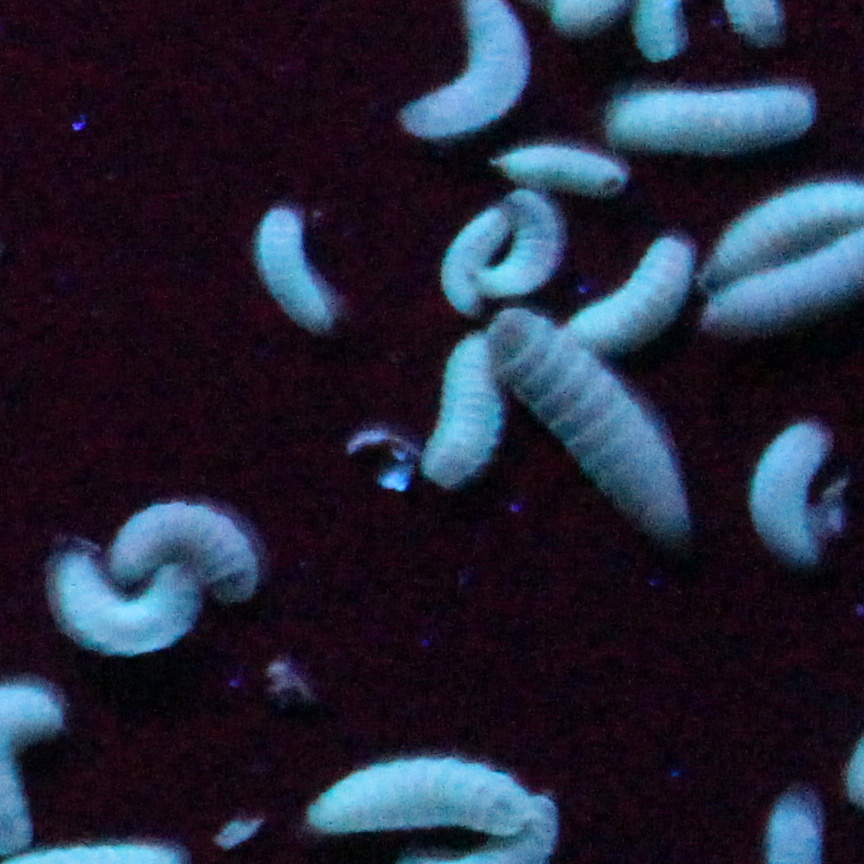larve: (506, 318, 684, 555), (697, 171, 860, 276), (302, 767, 530, 837), (702, 249, 859, 345), (107, 507, 257, 602), (54, 564, 192, 663), (738, 423, 823, 573), (606, 91, 808, 146), (581, 237, 685, 342), (428, 333, 497, 490), (258, 207, 339, 338), (488, 198, 561, 304), (501, 146, 620, 196), (446, 214, 500, 309)
